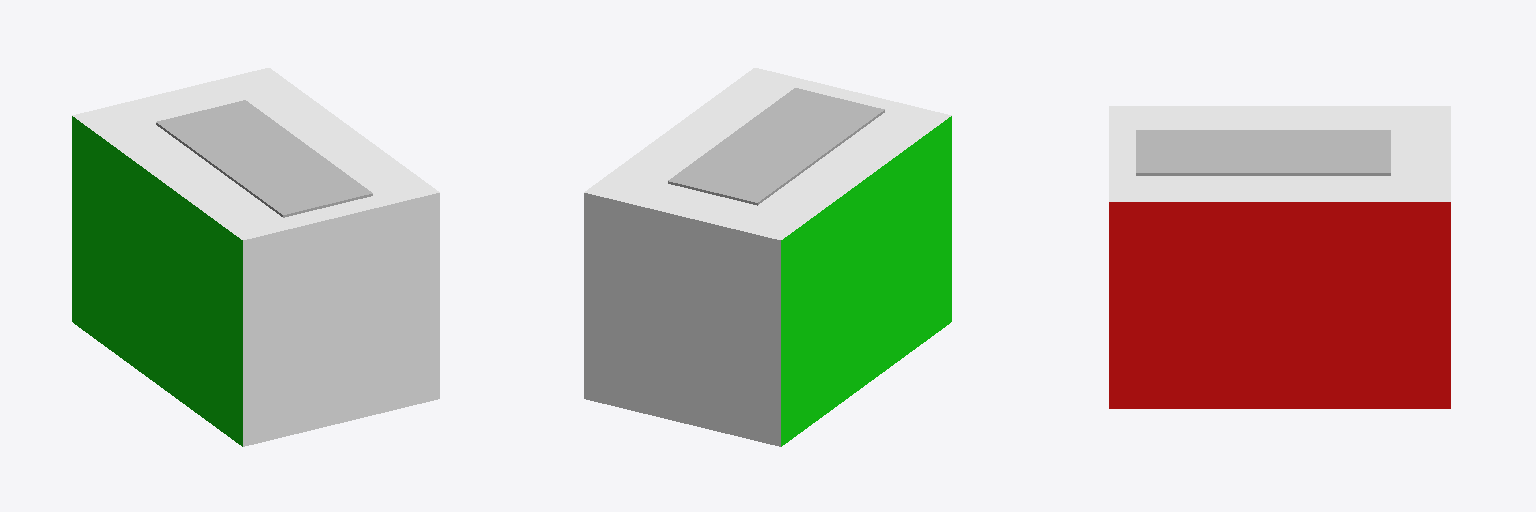
Rendered from blender_comp.obj.
The picture shows the model from 3 angles: view 1: azimuth 30°, elevation 25°; view 2: azimuth 150°, elevation 25°; view 3: azimuth 270°, elevation 25°; orthographic projection.
Visible parts, largest first — view 1: front-wall, left-wall, top-wall, Cube_Cube.001; view 2: back-wall, left-wall, top-wall, Cube_Cube.001; view 3: right-wall, top-wall, Cube_Cube.001.
Boxes of the visible parts, x1,y1,x2,y2 form: front-wall: [243, 193, 439, 446]; left-wall: [72, 116, 242, 446]; top-wall: [72, 68, 439, 239]; Cube_Cube.001: [156, 100, 372, 217]; back-wall: [584, 193, 780, 446]; left-wall: [781, 116, 951, 446]; top-wall: [584, 68, 951, 239]; Cube_Cube.001: [668, 88, 884, 205]; right-wall: [1109, 202, 1450, 408]; top-wall: [1109, 106, 1450, 201]; Cube_Cube.001: [1136, 130, 1390, 175].
Size of the model in its own units: 10 by 10.12 by 15.